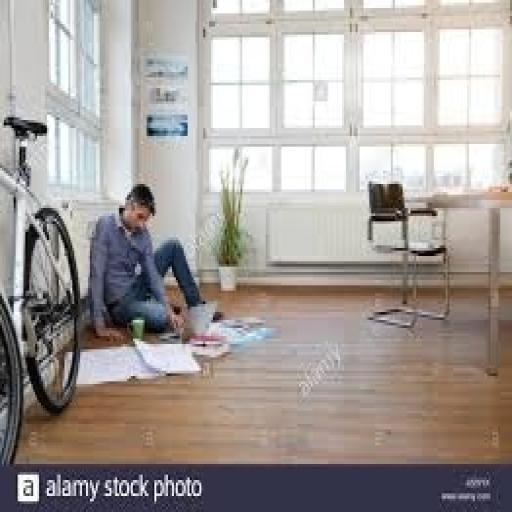using_laptop: (131, 255, 224, 384)
